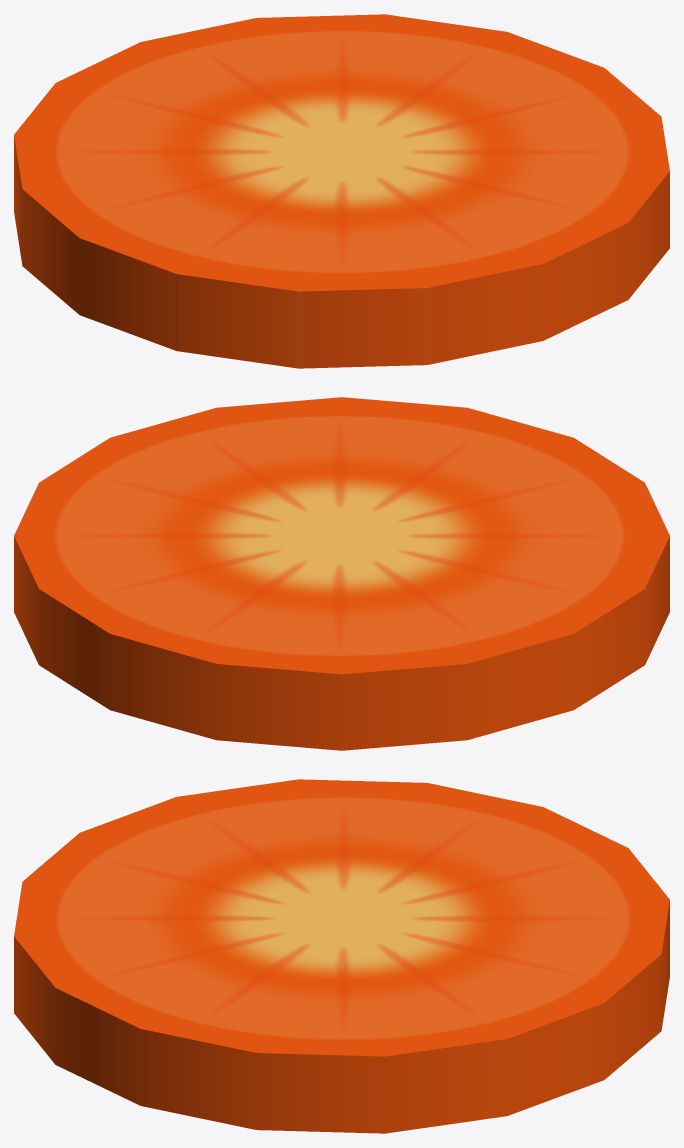
Rendered from Carrot_Ready.fbx.
3 views of the same model, one above another, from view 1: azimuth 30°, elevation 25°; view 2: azimuth 150°, elevation 25°; view 3: azimuth 270°, elevation 25° (orthographic).
Visible parts, largest first — view 1: Carrot_Ready; view 2: Carrot_Ready; view 3: Carrot_Ready.
Boxes of the visible parts, bbox=[...] form: Carrot_Ready: bbox=[14, 14, 669, 368]; Carrot_Ready: bbox=[14, 397, 669, 750]; Carrot_Ready: bbox=[14, 779, 669, 1133].
Size of the model in its own units: 31.16 by 4.04 by 31.16.
